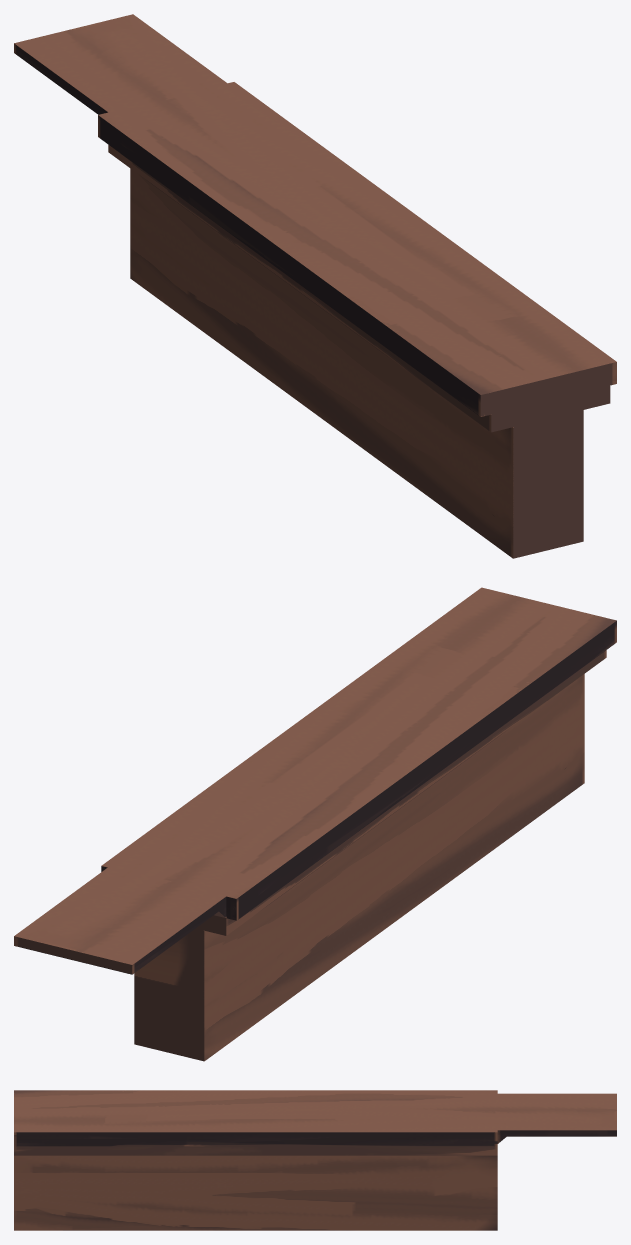
Rendered from customercounter.fbx.
3 renders of one model, top to bottom at view 1: azimuth 30°, elevation 25°; view 2: azimuth 150°, elevation 25°; view 3: azimuth 270°, elevation 25°, orthographic. The views are drawn at different scales.
Visible parts, largest first — view 1: floor.004; view 2: floor.004; view 3: floor.004.
Part boxes in pixels (box(x1,y1,x2,y2)): floor.004: box(14, 14, 616, 558); floor.004: box(14, 587, 616, 1061); floor.004: box(14, 1090, 616, 1230).
Bounding box in the file's own units: 765 × 921 × 4644.
